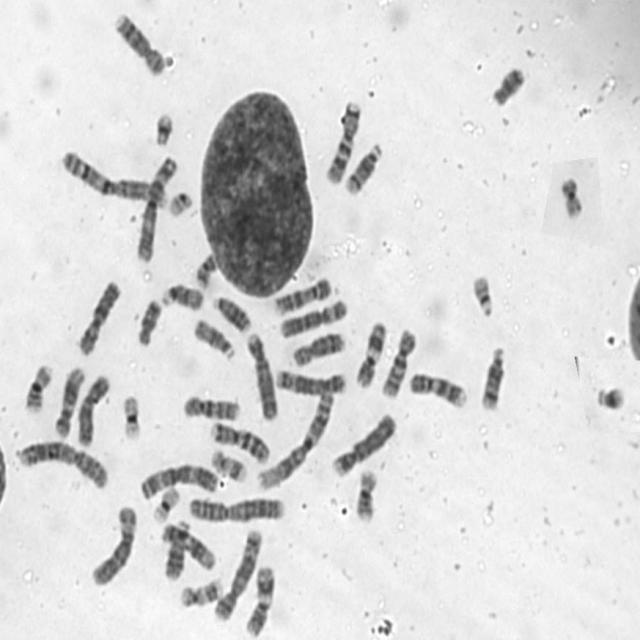A1: (255, 386, 336, 494), (57, 145, 170, 212)
A2: (14, 436, 111, 489), (185, 490, 286, 525)
A3: (133, 152, 179, 262), (136, 461, 220, 500)
B4: (328, 409, 399, 479), (243, 328, 280, 422)
B5: (211, 525, 264, 622), (272, 365, 348, 396)
C10: (377, 324, 418, 400), (180, 391, 242, 422)
C11: (352, 317, 388, 390), (241, 563, 276, 638)
C12: (158, 518, 217, 572), (52, 362, 86, 438)
C6: (88, 500, 139, 588), (277, 295, 349, 340)
C7: (322, 96, 363, 187), (208, 418, 272, 464)
C8: (112, 10, 166, 77), (290, 329, 346, 369)
C9: (270, 273, 334, 316), (407, 368, 468, 411)
D13: (160, 519, 190, 582), (210, 293, 253, 334)
D14: (342, 140, 383, 196), (478, 343, 507, 412)
D15: (190, 315, 237, 362), (159, 280, 205, 312)
E16: (22, 360, 54, 416), (353, 466, 379, 524)
E17: (176, 575, 224, 609), (207, 445, 248, 482)
E18: (489, 63, 527, 108), (134, 295, 164, 348)
F19: (118, 389, 144, 444), (150, 482, 181, 523)
F20: (556, 173, 585, 220), (193, 249, 220, 289)
G21: (592, 380, 628, 412), (151, 109, 176, 146)
G22: (469, 271, 496, 319), (166, 188, 195, 218)
X: (75, 276, 122, 356), (74, 370, 110, 447)
